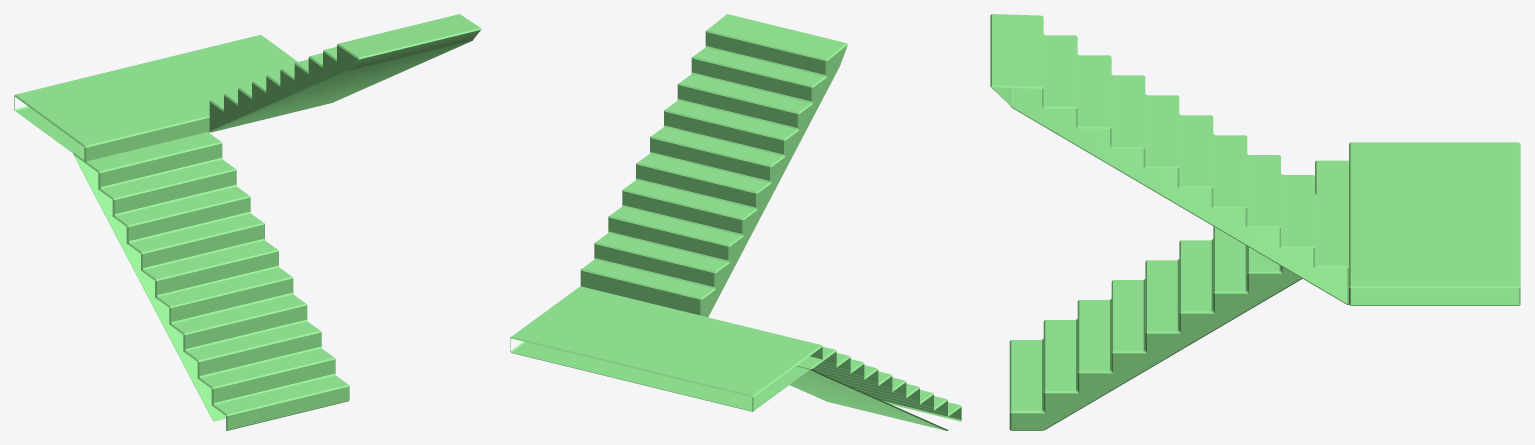
File: Stairs.FBX
3 renders of one model, left to right at view 1: azimuth 30°, elevation 25°; view 2: azimuth 150°, elevation 25°; view 3: azimuth 270°, elevation 25°, orthographic. The views are drawn at different scales.
Parts seen in each view (by area): view 1: Object002; view 2: Object002; view 3: Object002.
Boxes of the visible parts, x1,y1,x2,y2 form: Object002: [14, 14, 481, 430]; Object002: [510, 14, 961, 430]; Object002: [990, 14, 1520, 430].
Size of the model in its own units: 2.51 by 3.38 by 3.88.
